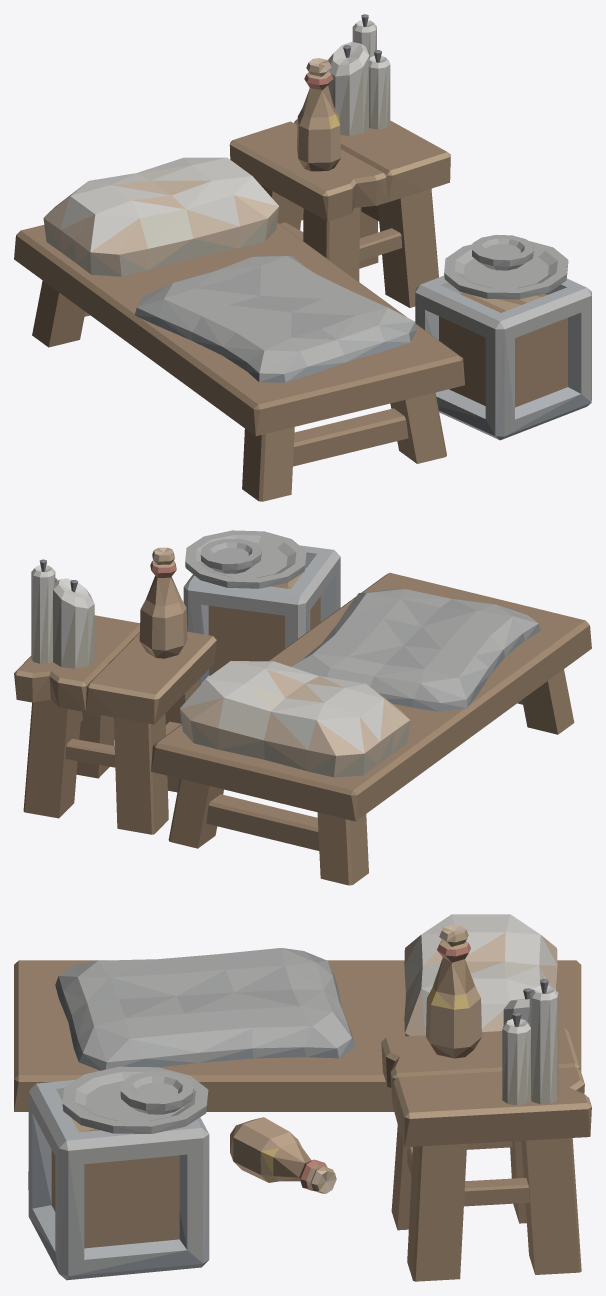
The picture shows the model from 3 angles, top to bottom: view 1: azimuth 30°, elevation 25°; view 2: azimuth 150°, elevation 25°; view 3: azimuth 270°, elevation 25°; orthographic projection. The views are drawn at different scales.
Parts seen in each view (by area): view 1: model; view 2: model; view 3: model.
Boxes of the visible parts, <box> form: model: <box>14,14,591,501</box>; model: <box>14,530,591,885</box>; model: <box>14,914,591,1281</box>.
Bounding box in the file's own units: 1.82 × 1.19 × 2.14.
